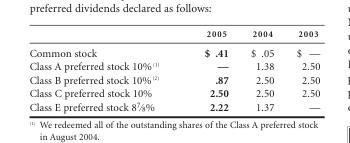table: (28, 28, 319, 112)
table column: (28, 28, 181, 112), (181, 28, 238, 112), (238, 28, 284, 112), (284, 28, 319, 112)
table column header: (28, 28, 319, 42)
table row: (28, 42, 319, 59), (28, 28, 319, 42), (28, 72, 319, 86), (28, 59, 319, 72), (28, 86, 319, 99), (28, 99, 319, 112)
